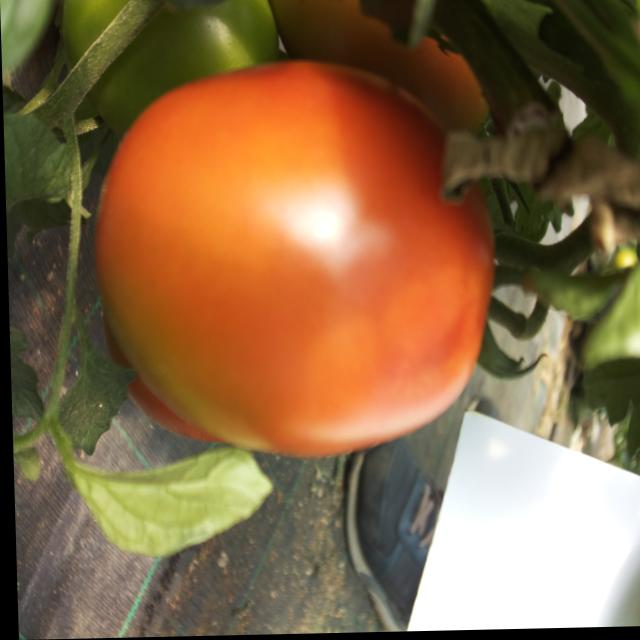sari: (94, 44, 500, 479)
